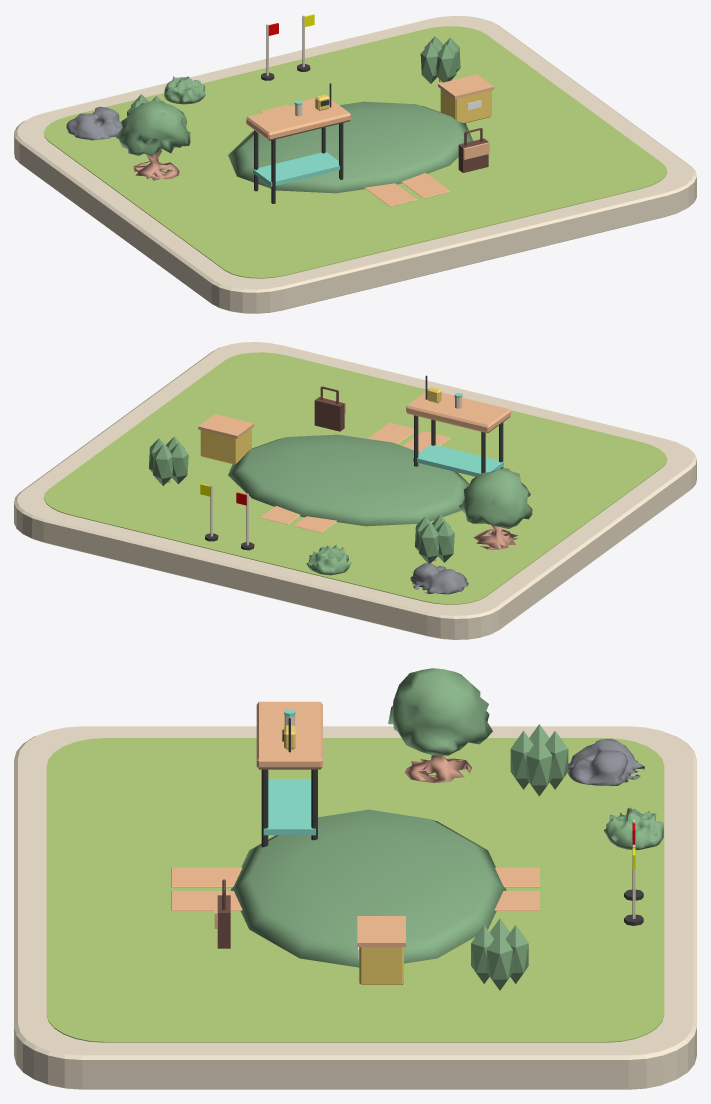
File: room.fbx
3 renders of one model, top to bottom at view 1: azimuth 30°, elevation 25°; view 2: azimuth 150°, elevation 25°; view 3: azimuth 270°, elevation 25°, orthographic. The views are drawn at different scales.
Parts seen in each view (by area): view 1: COM-02 Floor Surface, COM-01 Rounded Base Direct, Low terrain, 둥근 수관 나무, Worktop, Lower shelf, 둥근 강돌 무리, Box, Bag, 넓은 잎 풀 포기, Lid, Path stone (+3 smaller); view 2: COM-02 Floor Surface, COM-01 Rounded Base Direct, Low terrain, 둥근 수관 나무, Worktop, Lower shelf, 둥근 강돌 무리, Box, Bag, 넓은 잎 풀 포기, Lid, Leaf.001 (+4 smaller); view 3: COM-02 Floor Surface, COM-01 Rounded Base Direct, Low terrain, 둥근 수관 나무, Worktop, 둥근 강돌 무리, Lower shelf, 넓은 잎 풀 포기, Box, Lid, Path stone, Leaf (+9 smaller).
Boxes of the visible parts, box(x1,y1,x2,y2) form: COM-02 Floor Surface: box(43, 26, 667, 278); COM-01 Rounded Base Direct: box(14, 16, 696, 313); Low terrain: box(228, 101, 472, 193); 둥근 수관 나무: box(115, 100, 190, 180); Worktop: box(246, 100, 350, 140); Lower shelf: box(253, 152, 344, 186); 둥근 강돌 무리: box(66, 106, 122, 140); Box: box(440, 89, 491, 122); Bag: box(458, 127, 489, 172); 넓은 잎 풀 포기: box(164, 76, 205, 104); Lid: box(438, 74, 494, 99); Path stone: box(365, 183, 417, 206); COM-02 Floor Surface: box(43, 352, 667, 604); COM-01 Rounded Base Direct: box(14, 342, 696, 639); Low terrain: box(228, 434, 469, 526); 둥근 수관 나무: box(459, 468, 532, 549); Worktop: box(406, 392, 510, 433); Lower shelf: box(413, 444, 503, 476); 둥근 강돌 무리: box(410, 563, 468, 594); Box: box(200, 428, 251, 464); Bag: box(314, 386, 345, 431); 넓은 잎 풀 포기: box(306, 544, 351, 575); Lid: box(198, 414, 254, 438); Leaf.001: box(419, 523, 438, 563); COM-02 Floor Surface: box(46, 738, 664, 1042); COM-01 Rounded Base Direct: box(14, 726, 696, 1089); Low terrain: box(231, 809, 506, 967); 둥근 수관 나무: box(388, 668, 492, 782); Worktop: box(256, 701, 322, 769); 둥근 강돌 무리: box(567, 738, 644, 785); Lower shelf: box(263, 779, 315, 835); 넓은 잎 풀 포기: box(604, 807, 663, 850); Box: box(359, 947, 403, 984); Lid: box(357, 916, 405, 947); Path stone: box(171, 867, 242, 887); Leaf: box(526, 737, 552, 796).
Size of the model in its own units: 600 by 146 by 520.
